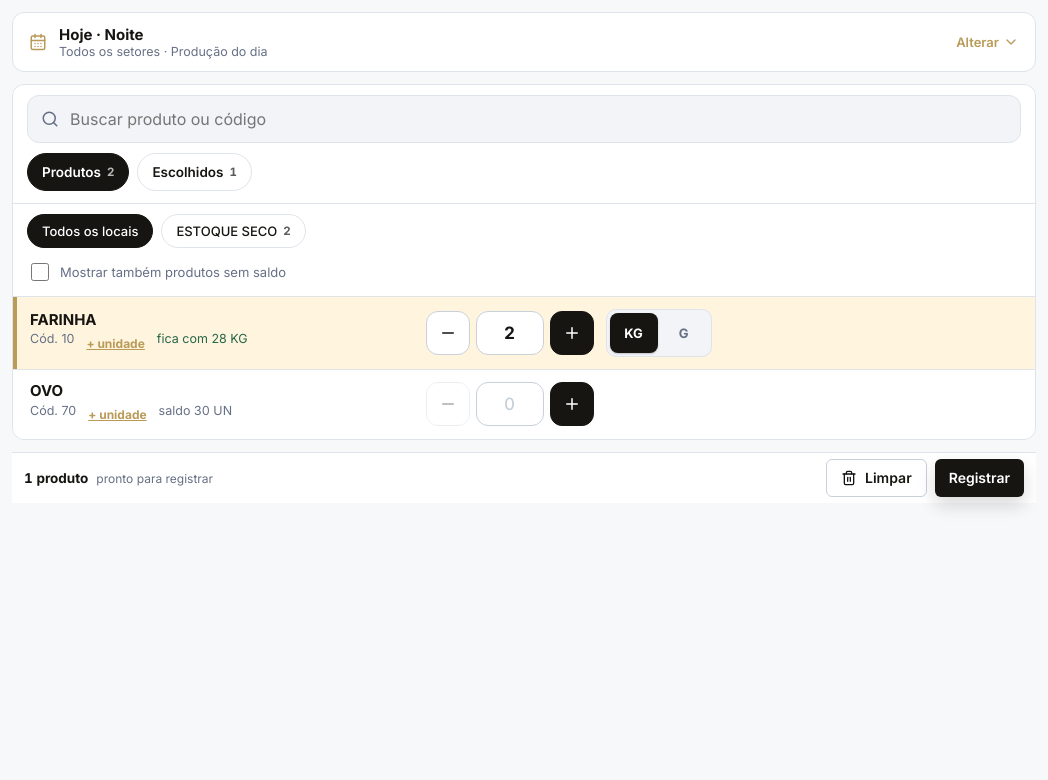
Test case: rascunho da requisição salvo no sistema › 'Ver a mais recente' troca os itens pelos do sistema
Replace the text in the field named "Quantidade de FARINHA" with "3" at (510, 333), box [476,311,544,355]
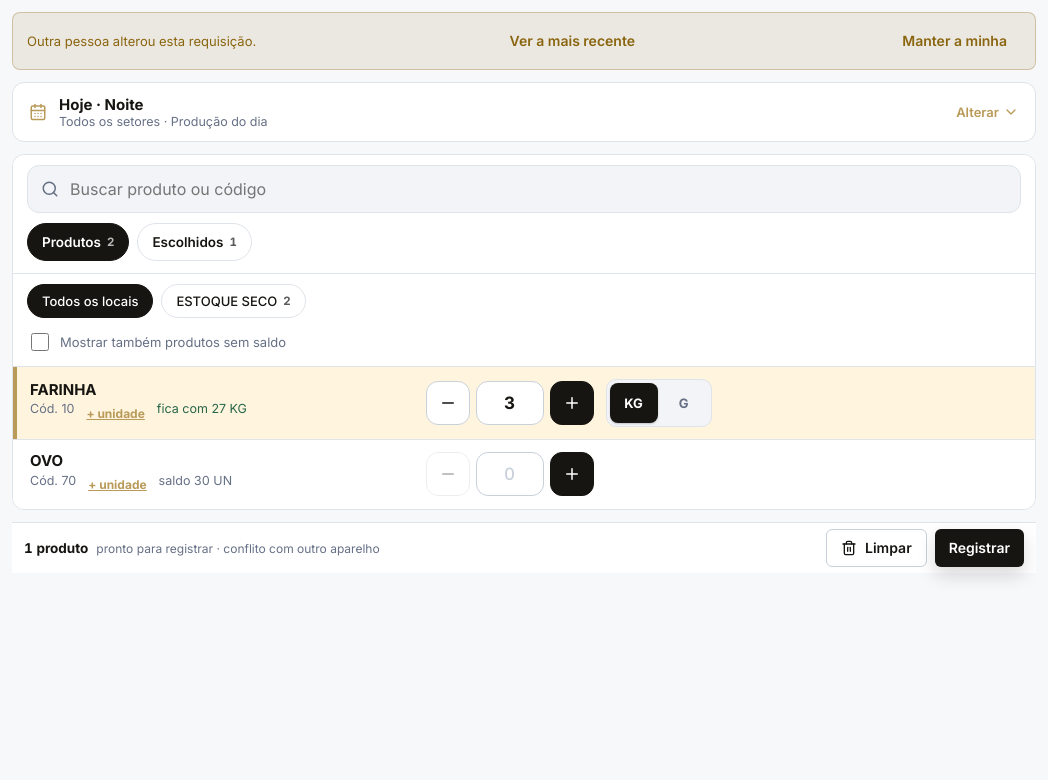
Click the button "Ver a mais recente" at (572, 41), box [496,23,649,59]
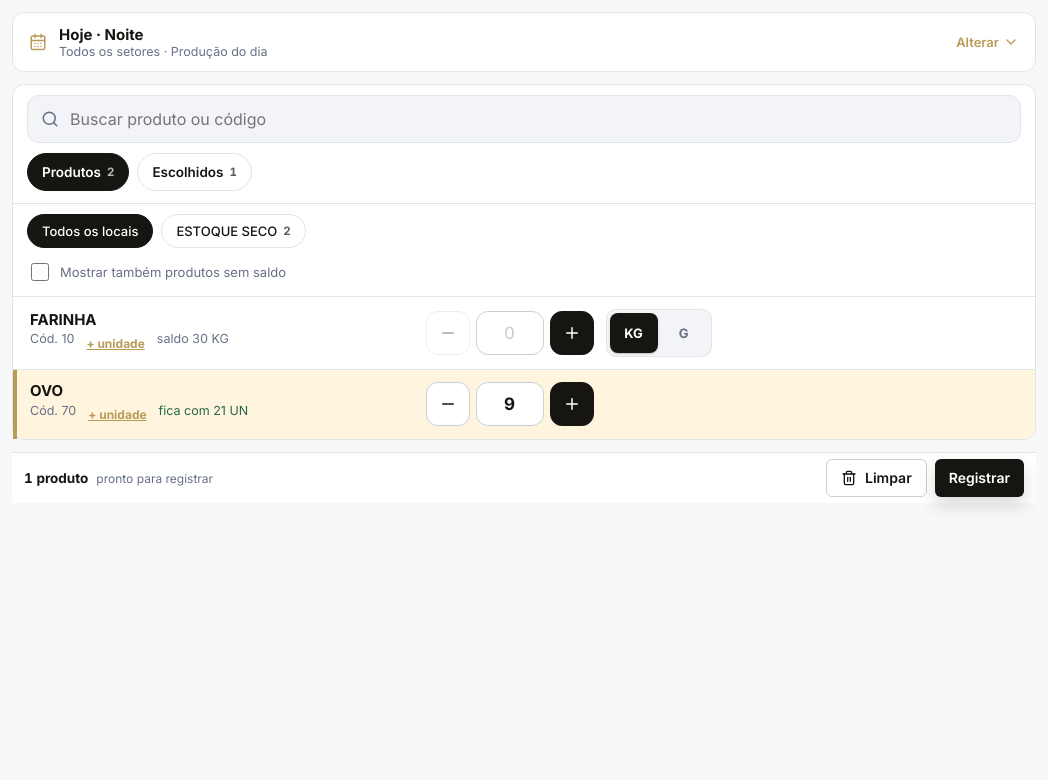
Check: the field named "Quantidade de OVO" holds "9", box [476,382,544,426]
Check: the field named "Quantidade de FARINHA" is empty, box [476,311,544,355]
